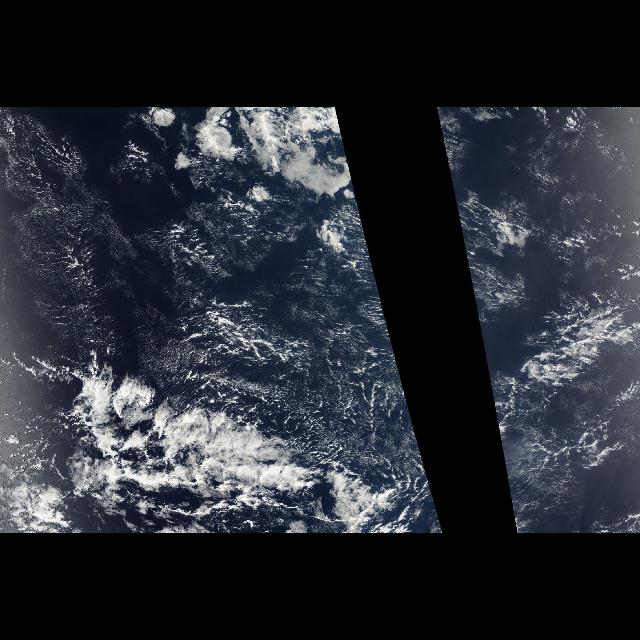Fish: (52, 362, 410, 526)
Sugar: (5, 113, 415, 453)
